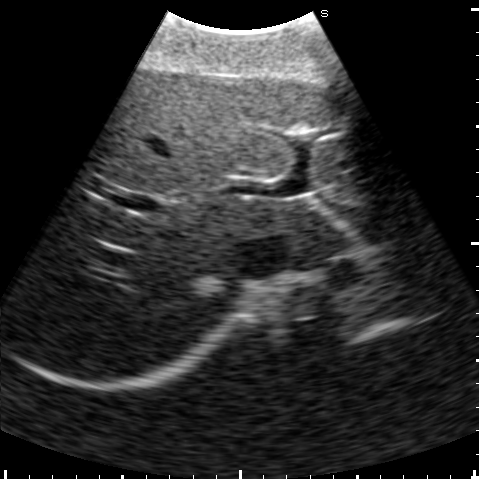IVC: (235, 236, 292, 276)
S1: (279, 207, 344, 246)
S2: (319, 195, 432, 246)
S3: (293, 76, 412, 202)
S4: (94, 69, 334, 195)
Tumor: (192, 278, 223, 295)
